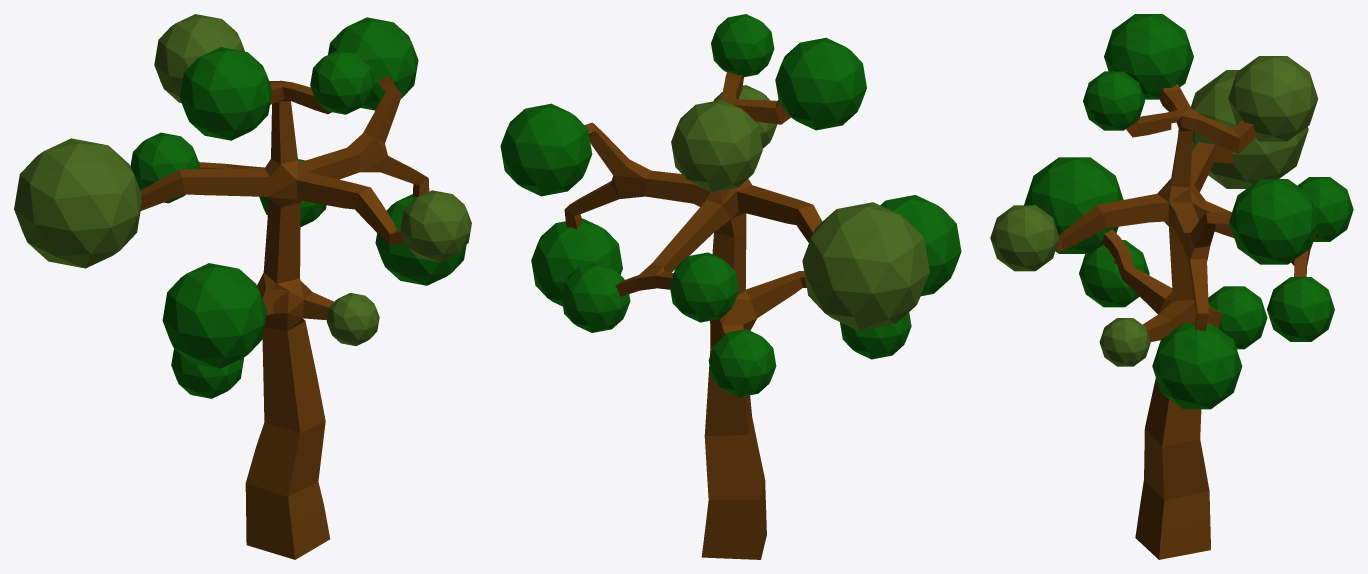
The model's file is TreeB2.fbx.
3 renders of one model, left to right at view 1: azimuth 30°, elevation 25°; view 2: azimuth 150°, elevation 25°; view 3: azimuth 270°, elevation 25°, orthographic. The views are drawn at different scales.
Visible parts, largest first — view 1: TreeB2; view 2: TreeB2; view 3: TreeB2.
Part boxes in pixels (<box>): TreeB2: <box>14,14,471,559</box>; TreeB2: <box>500,14,961,559</box>; TreeB2: <box>990,14,1353,559</box>.
Bounding box in the file's own units: 555 × 688 × 830.
